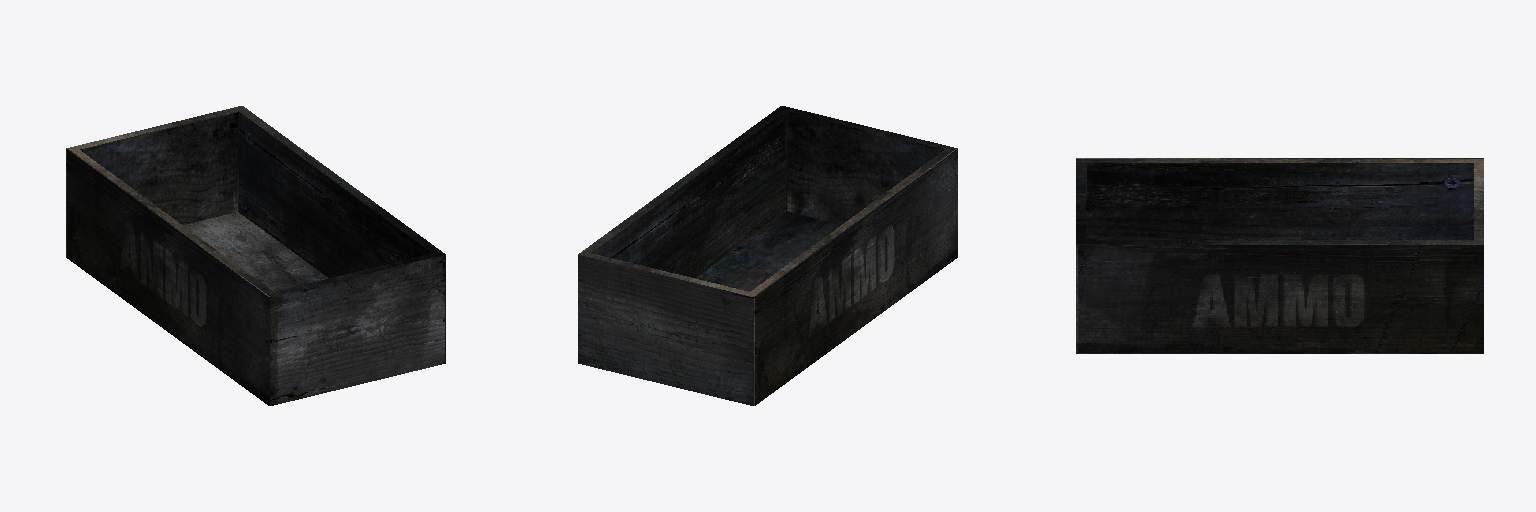
The picture shows the model from 3 angles: view 1: azimuth 30°, elevation 25°; view 2: azimuth 150°, elevation 25°; view 3: azimuth 270°, elevation 25°; orthographic projection.
Visible parts, largest first — view 1: Crate_Cube; view 2: Crate_Cube; view 3: Crate_Cube.
Part boxes in pixels (left/top/right/bottom): Crate_Cube: left=66, top=106, right=445, bottom=405; Crate_Cube: left=578, top=106, right=957, bottom=405; Crate_Cube: left=1076, top=158, right=1483, bottom=353.
Bounding box in the file's own units: 1 × 0.5908 × 2.
Materials: 1 (1 with a texture image).